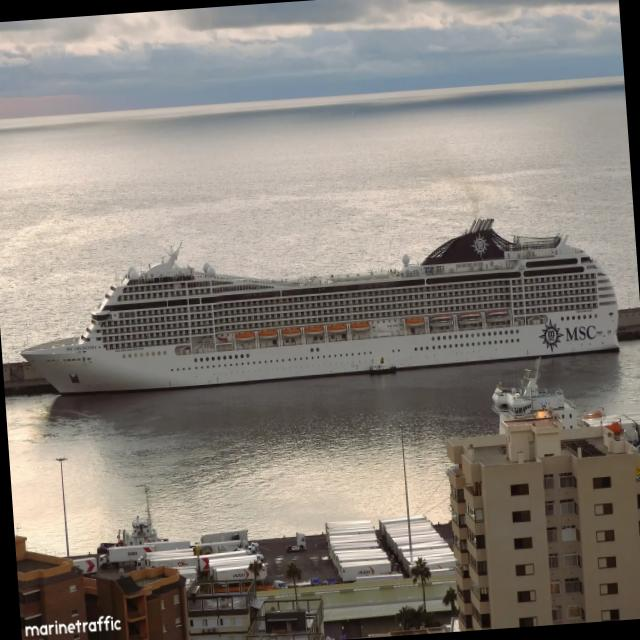Cruise: (22, 218, 618, 393)
